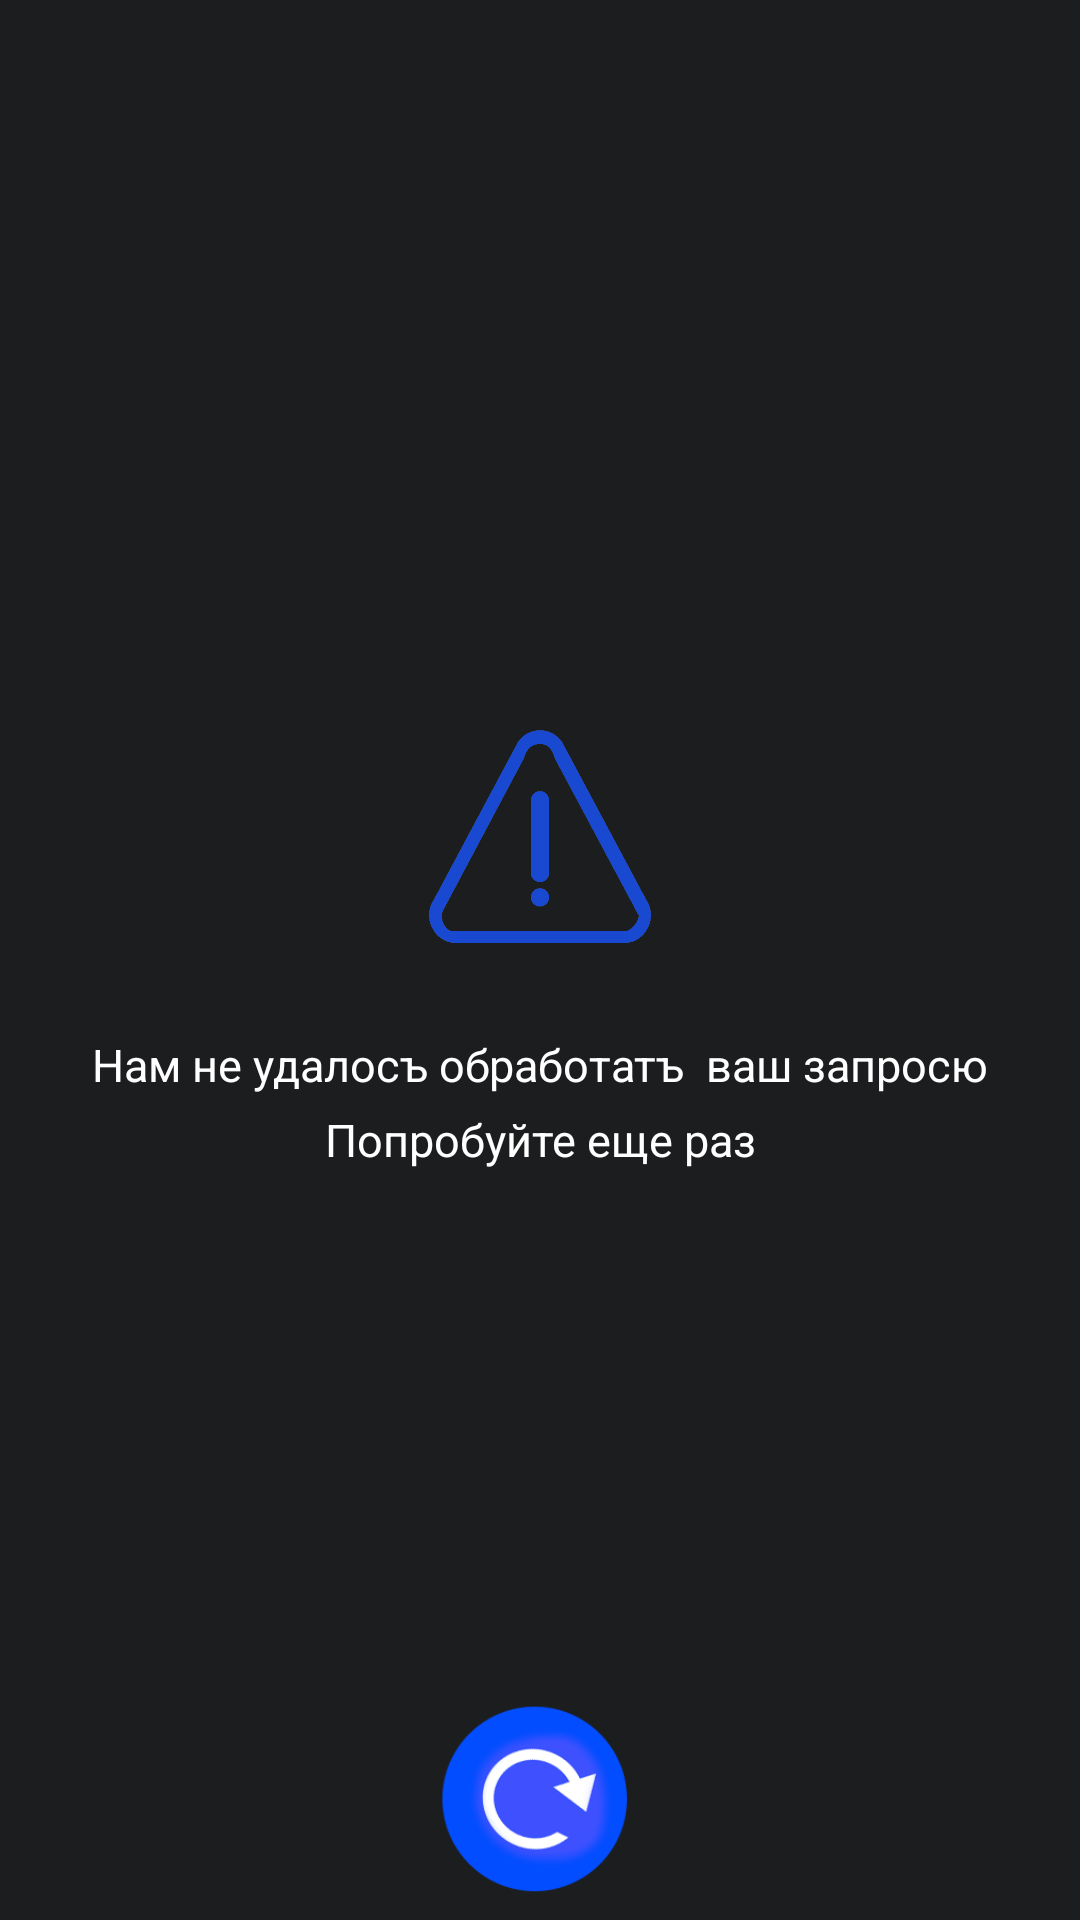

Where to tap for icons on this 1080px x 1920px app screen, as [x,y]:
reload: [534,1799]
